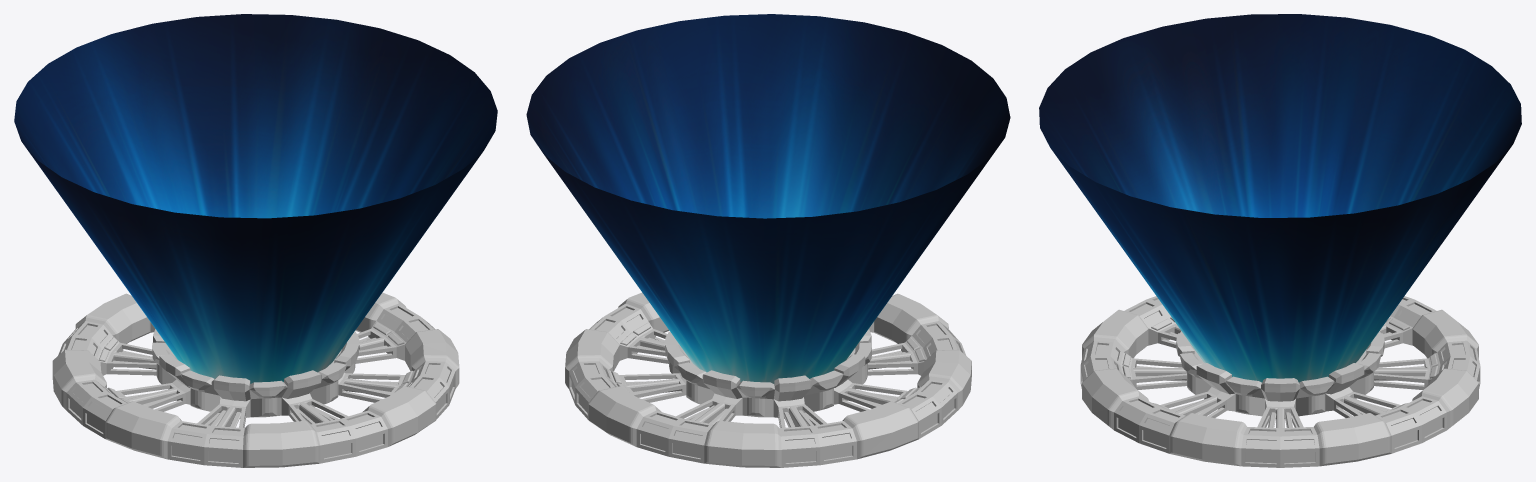
File: Holo_Product.fbx
3 renders of one model, left to right at view 1: azimuth 30°, elevation 25°; view 2: azimuth 150°, elevation 25°; view 3: azimuth 270°, elevation 25°, orthographic.
Visible parts, largest first — view 1: Cylinder, SmallShowRoom_Placeable_0; view 2: Cylinder, SmallShowRoom_Placeable_0; view 3: Cylinder, SmallShowRoom_Placeable_0.
Part boxes in pixels (x1,y1,x2,y2): Cylinder: (14, 14, 497, 383); SmallShowRoom_Placeable_0: (52, 292, 459, 467); Cylinder: (526, 14, 1010, 383); SmallShowRoom_Placeable_0: (565, 292, 971, 467); Cylinder: (1039, 14, 1521, 382); SmallShowRoom_Placeable_0: (1080, 296, 1480, 467).
Size of the model in its own units: 241 by 148 by 241.
